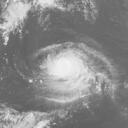cyclone: (30, 40, 113, 104)
